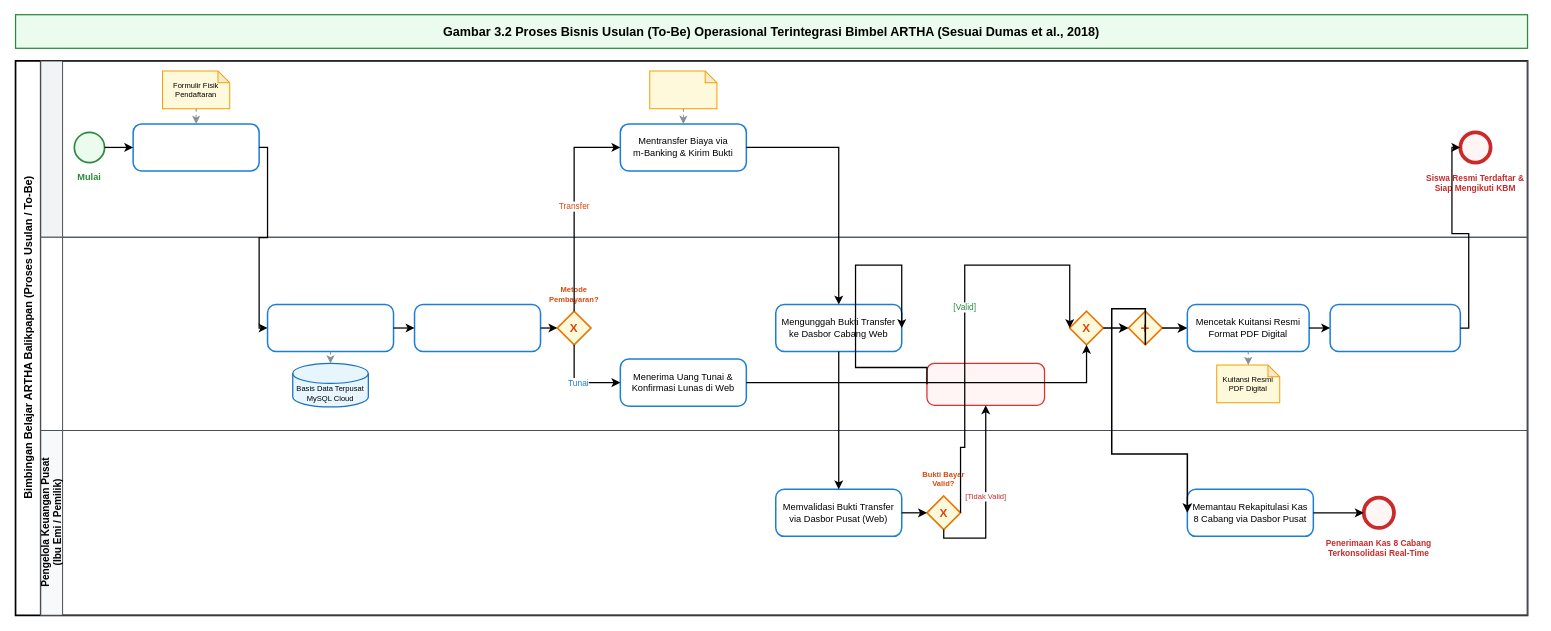
Image size: 1551x631. Some labels were removed from this diagram. Here are the shapes that lost their labels. From the top down, the box of each, then its label:
(649, 70, 717, 109): Bukti Transfer / QRIS
(132, 123, 259, 171): Mengisi Lembar Formulir Pendaftaran di Meja Cabang
(40, 60, 1528, 237): Wali Murid / Siswa
(266, 303, 394, 352): Memasukkan Data Siswa ke Aplikasi Web ARTHA
(413, 303, 541, 352): Memeriksa Ketersediaan Kuota Sesi secara Digital
(40, 236, 1528, 431): Staf Administrasi Cabang (Kak Agian)
(1329, 303, 1461, 352): Menyerahkan Kuitansi & Menempatkan Siswa ke Rombel
(926, 362, 1045, 406): Menolak Bukti & Meminta Koreksi Bukti Bayar
